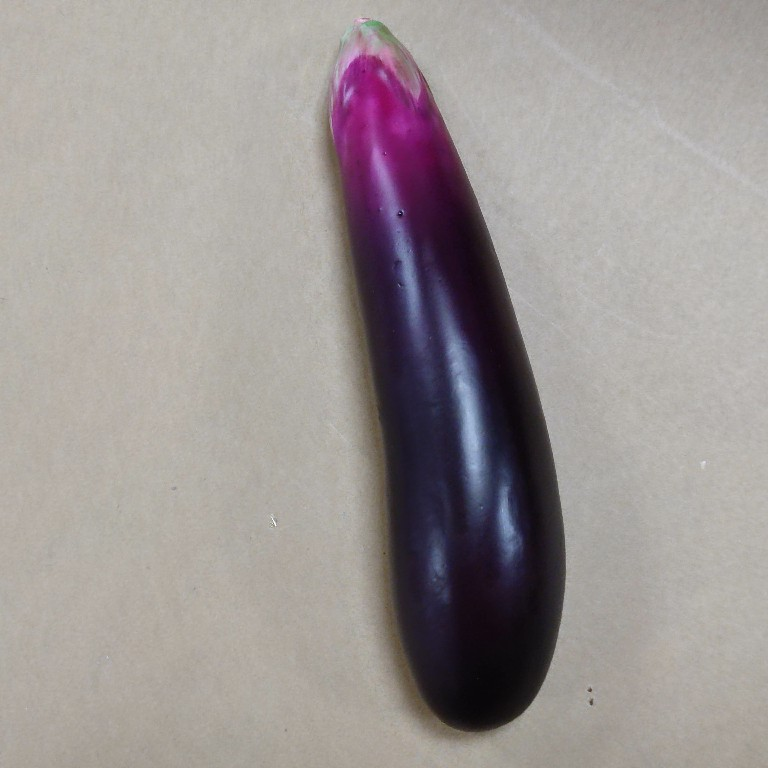fruit_eggplant: (320, 9, 569, 739)
